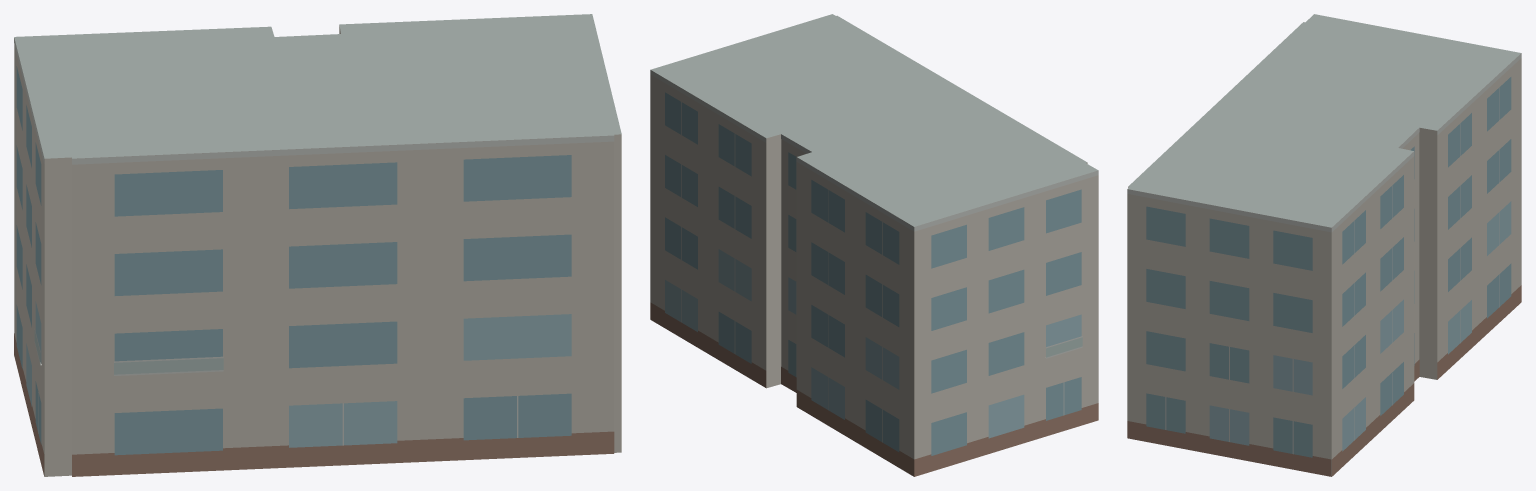
File: survey-upis-32669158.glb
3 renders of one model, left to right at view 1: azimuth 30°, elevation 25°; view 2: azimuth 150°, elevation 25°; view 3: azimuth 270°, elevation 25°, orthographic. The views are drawn at different scales.
Parts seen in each view (by area): view 1: survey-upis-32669158.tmp; view 2: survey-upis-32669158.tmp; view 3: survey-upis-32669158.tmp.
Boxes of the visible parts, x1,y1,x2,y2 form: survey-upis-32669158.tmp: [14, 14, 621, 476]; survey-upis-32669158.tmp: [650, 14, 1098, 476]; survey-upis-32669158.tmp: [1127, 14, 1521, 476].
Size of the model in its own units: 23.55 by 12.8 by 18.36.
